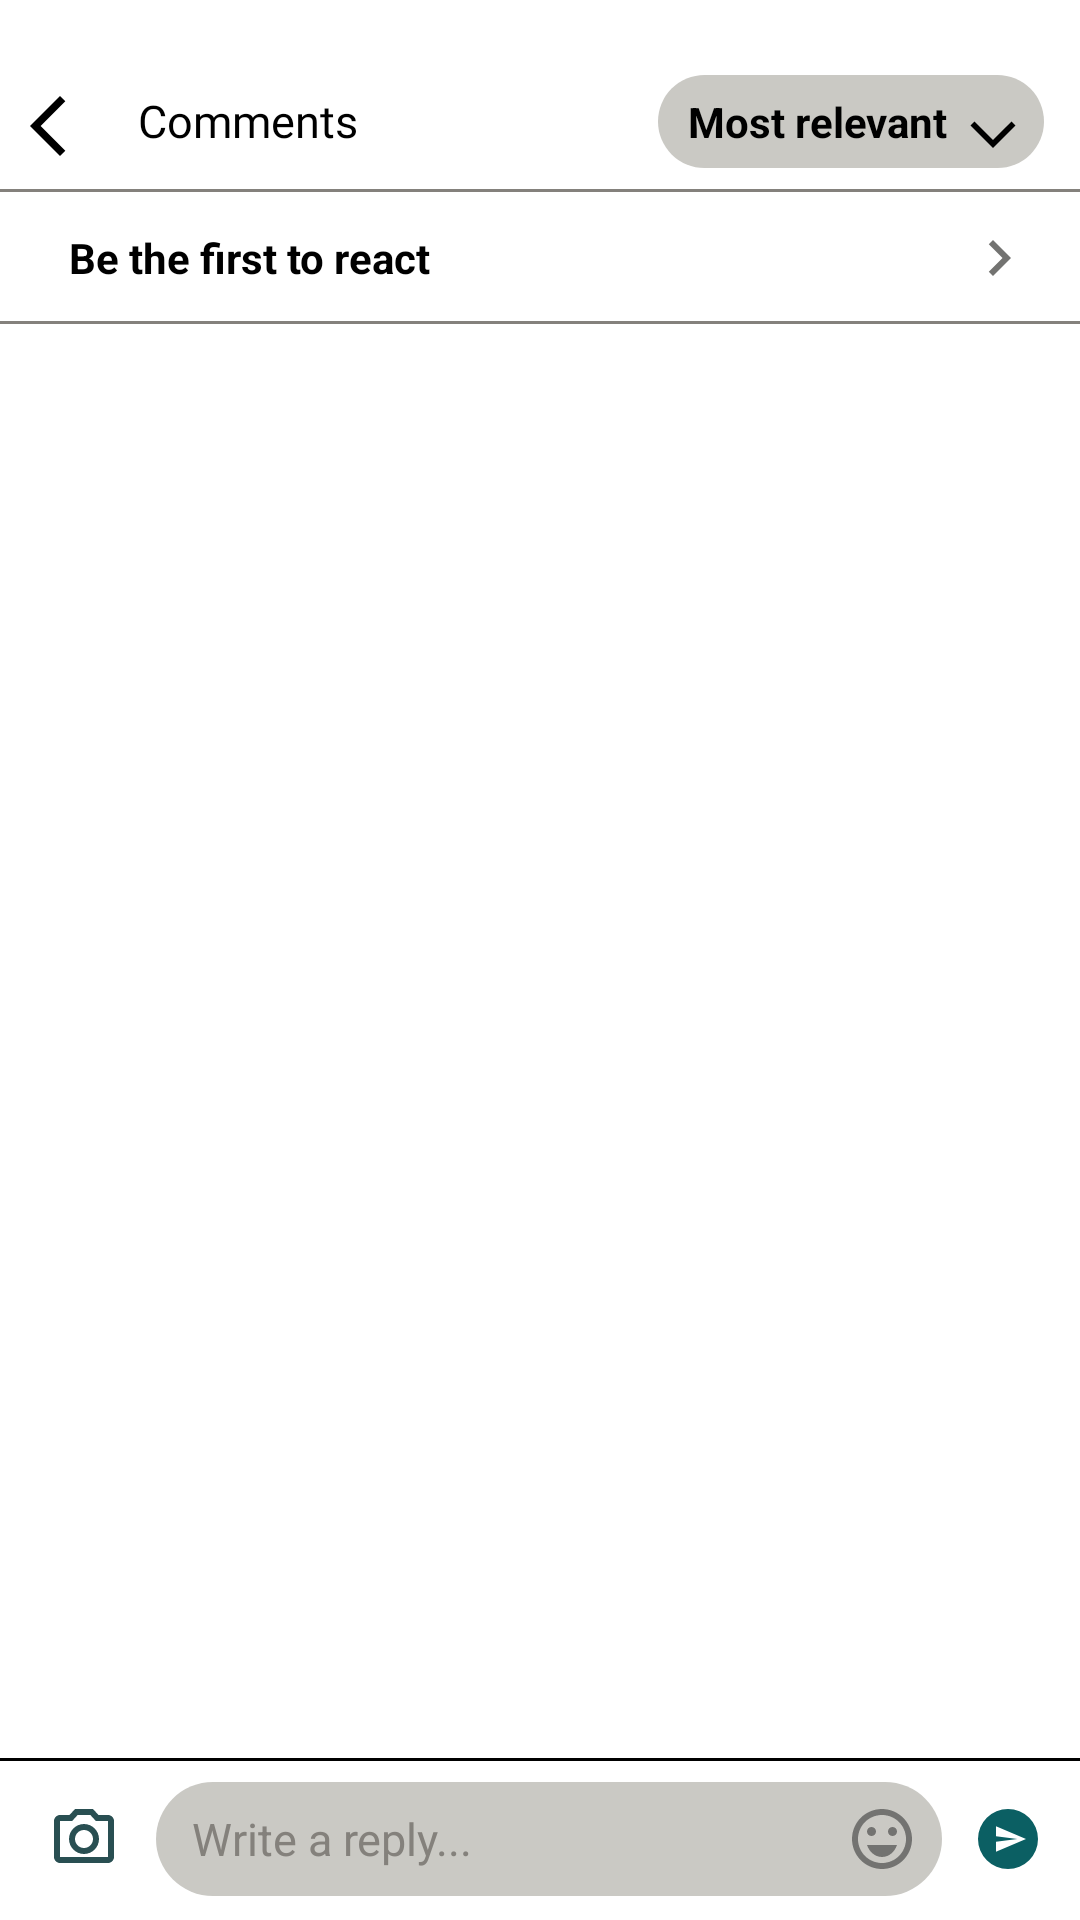

Where icons sit on this 1080*1920 app screen, as (x1, y1, x2, y2):
Back Arrow: (30, 96, 65, 156)
camera: (54, 1809, 114, 1863)
Emoji: (852, 1809, 912, 1869)
open reactions screen: (989, 240, 1011, 276)
Send: (978, 1809, 1038, 1869)
